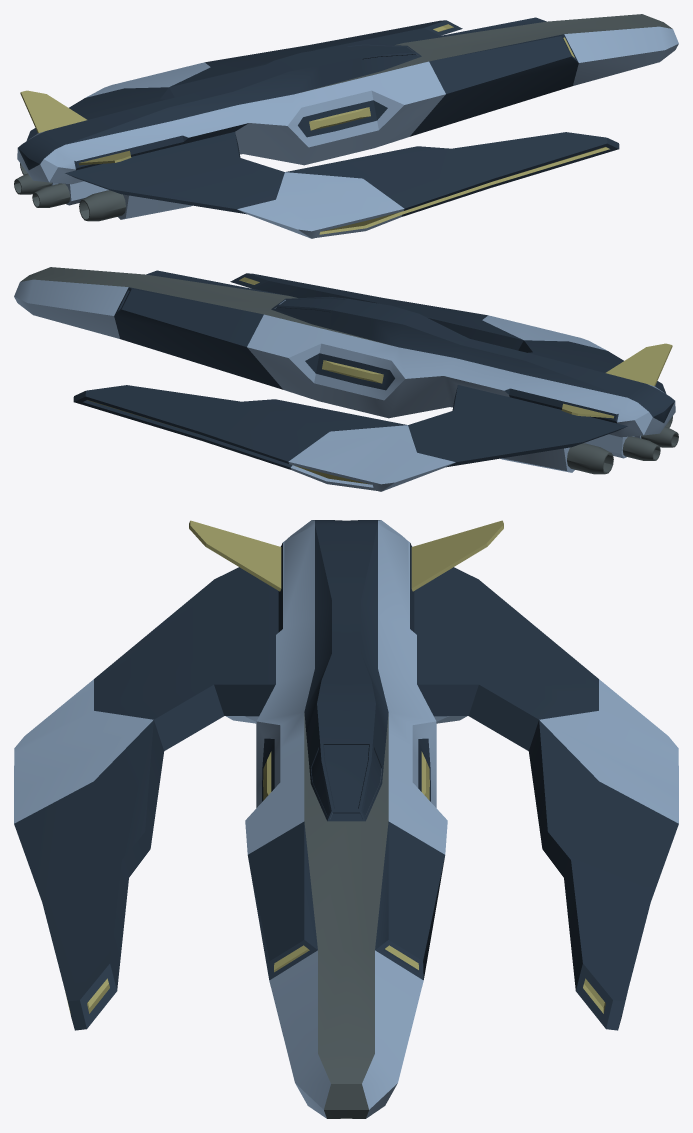
Rendered from spaceship_8.fbx.
3 renders of one model, top to bottom at view 1: azimuth 30°, elevation 25°; view 2: azimuth 150°, elevation 25°; view 3: azimuth 270°, elevation 25°, orthographic. The views are drawn at different scales.
Parts seen in each view (by area): view 1: Cube; view 2: Cube; view 3: Cube.
Boxes of the visible parts, x1,y1,x2,y2 form: Cube: (14,14,678,238); Cube: (14,267,678,491); Cube: (14,520,678,1118).
Size of the model in its own units: 2224 by 300 by 1195.
